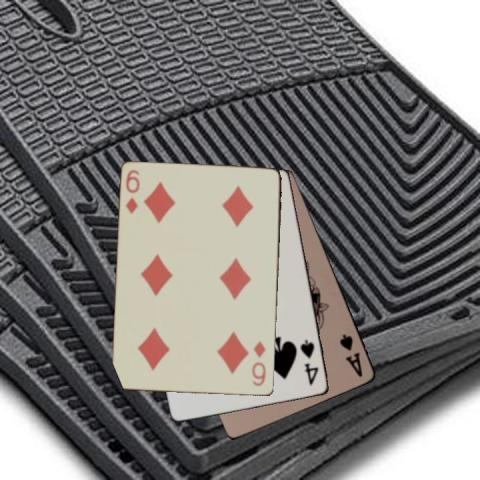4s: (297, 337, 320, 387)
6d: (250, 338, 268, 388), (123, 167, 141, 215)
As: (336, 331, 364, 379)
